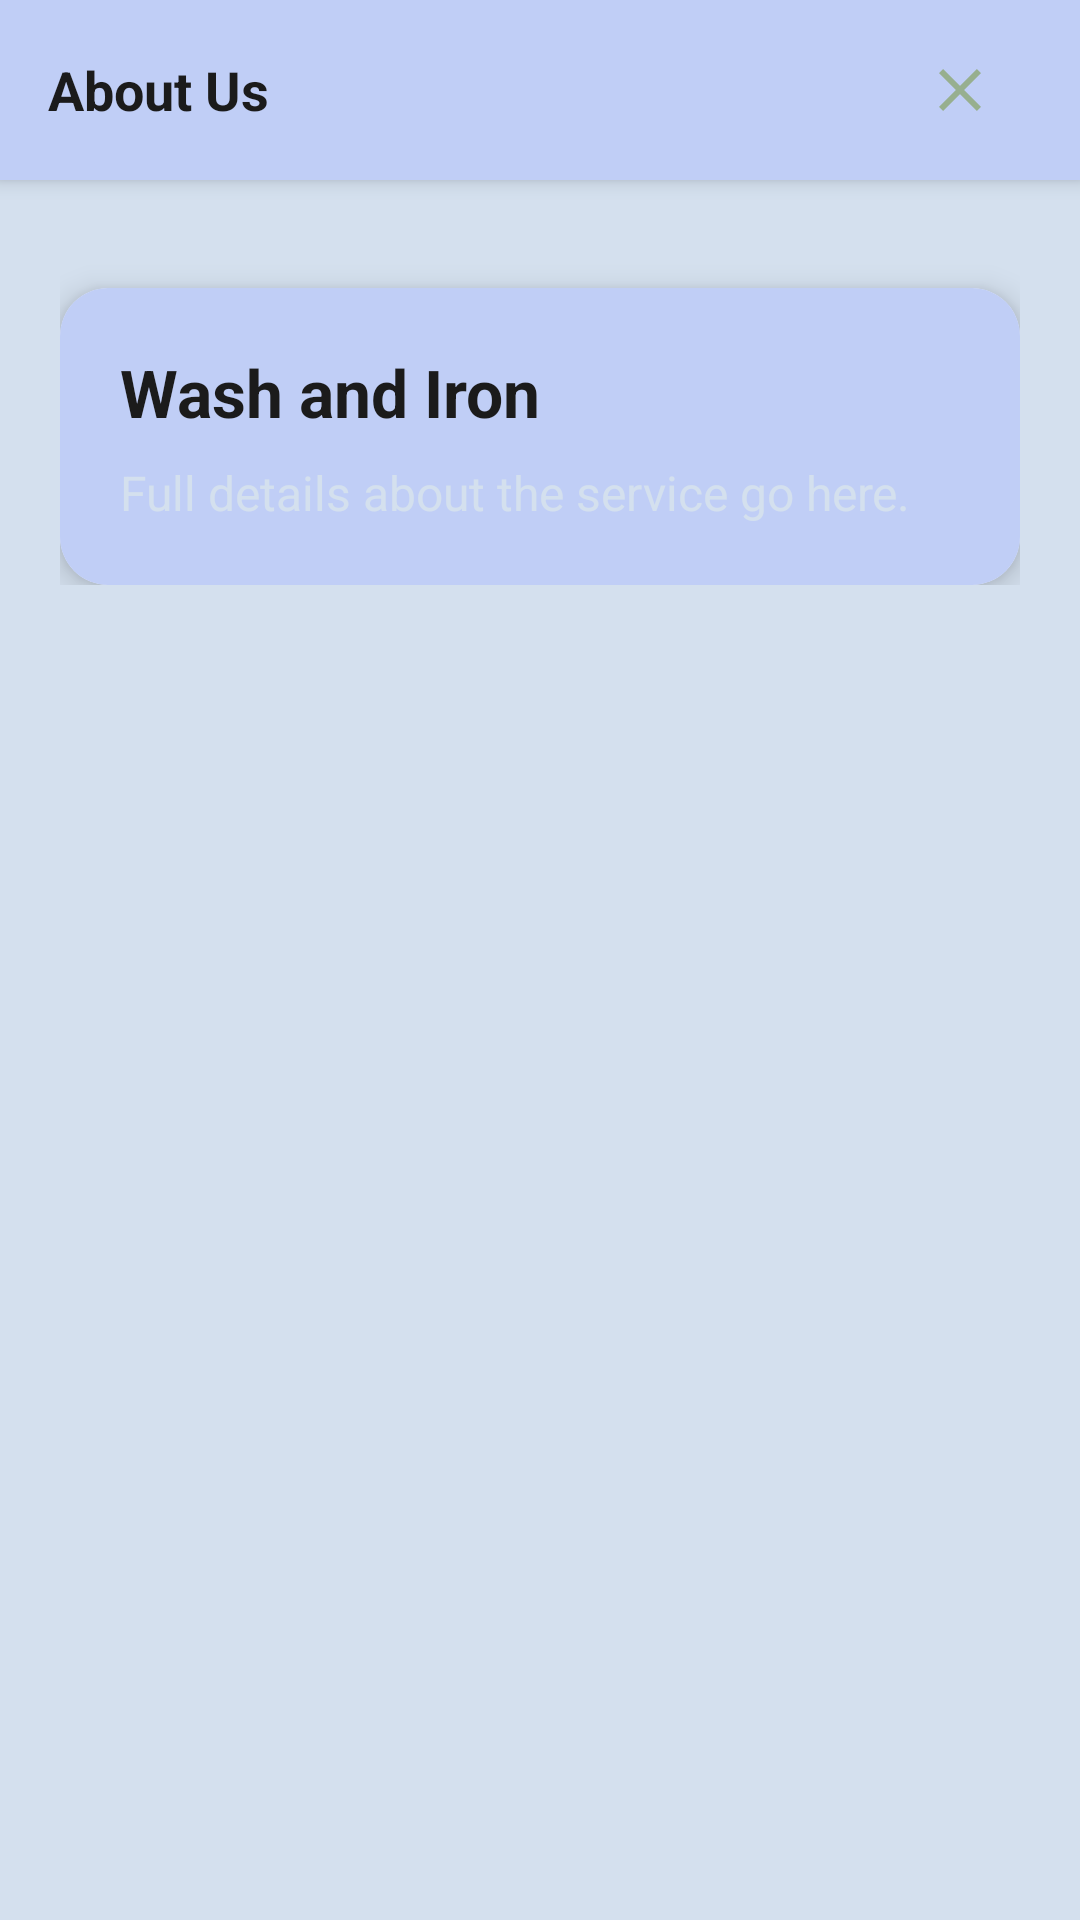

Where icons sit on this 1080w x 1920h app screen, as [left=x1, top=y1, right=x2, bottom=y2]:
Close: [left=939, top=69, right=981, bottom=111]
